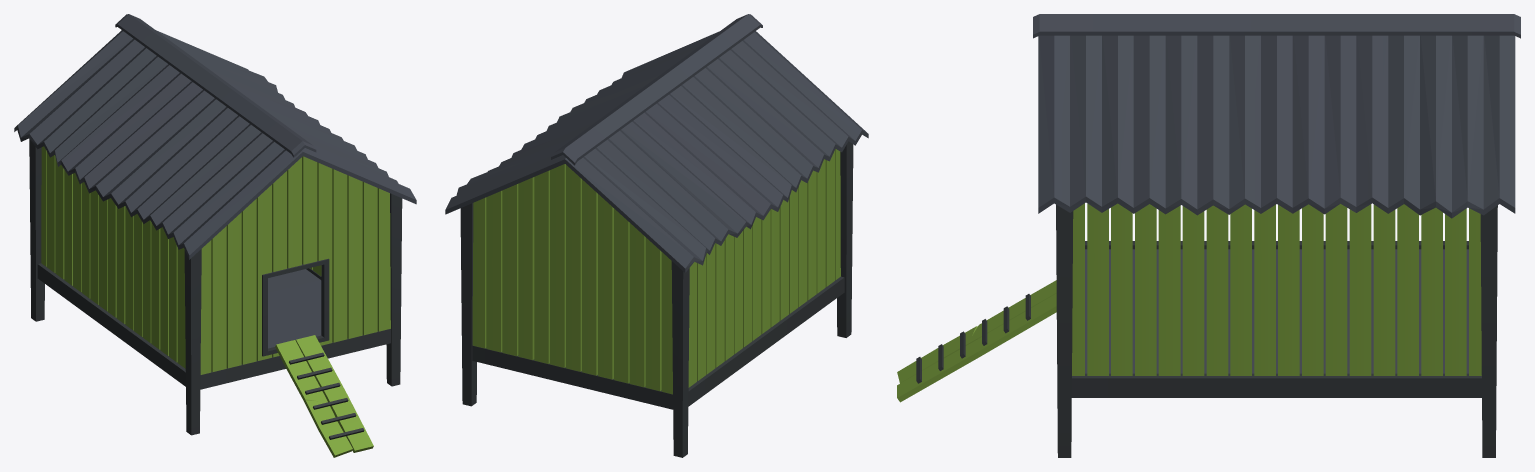
File: СhickenСoop_01.fbx
3 views of the same model, side by side, from view 1: azimuth 30°, elevation 25°; view 2: azimuth 150°, elevation 25°; view 3: azimuth 270°, elevation 25° (orthographic). The views are drawn at different scales.
Visible parts, largest first — view 1: СhickenСoop_01; view 2: СhickenСoop_01; view 3: СhickenСoop_01.
Part boxes in pixels (x1,y1,x2,y2): СhickenСoop_01: [14, 14, 416, 457]; СhickenСoop_01: [445, 14, 868, 457]; СhickenСoop_01: [897, 14, 1520, 457].
Bounding box in the file's own units: 1.76 × 1.91 × 2.88.
